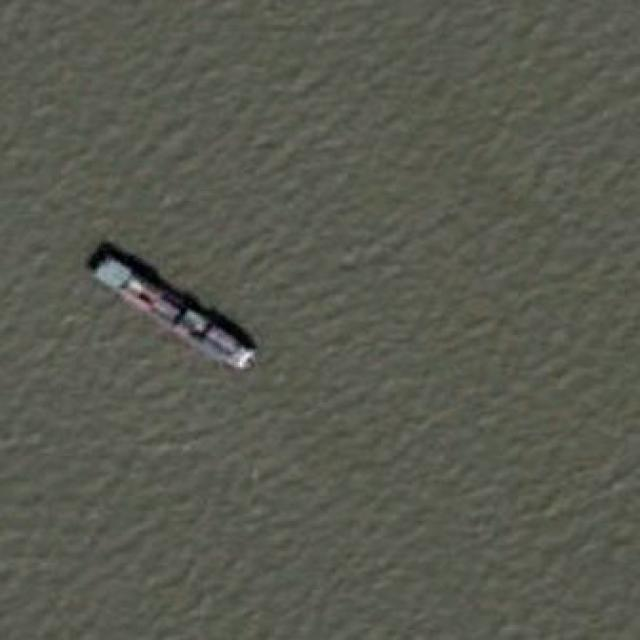boat: (86, 248, 259, 372)
